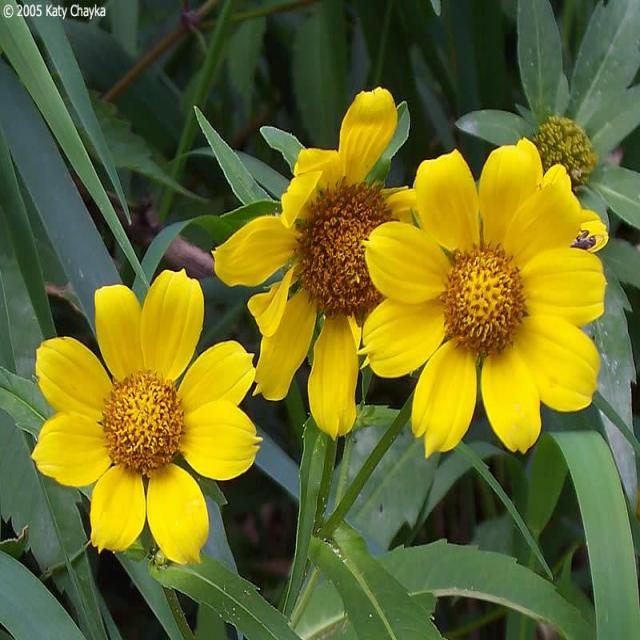organic waste: (228, 65, 430, 440), (370, 146, 608, 429), (40, 291, 249, 545)
